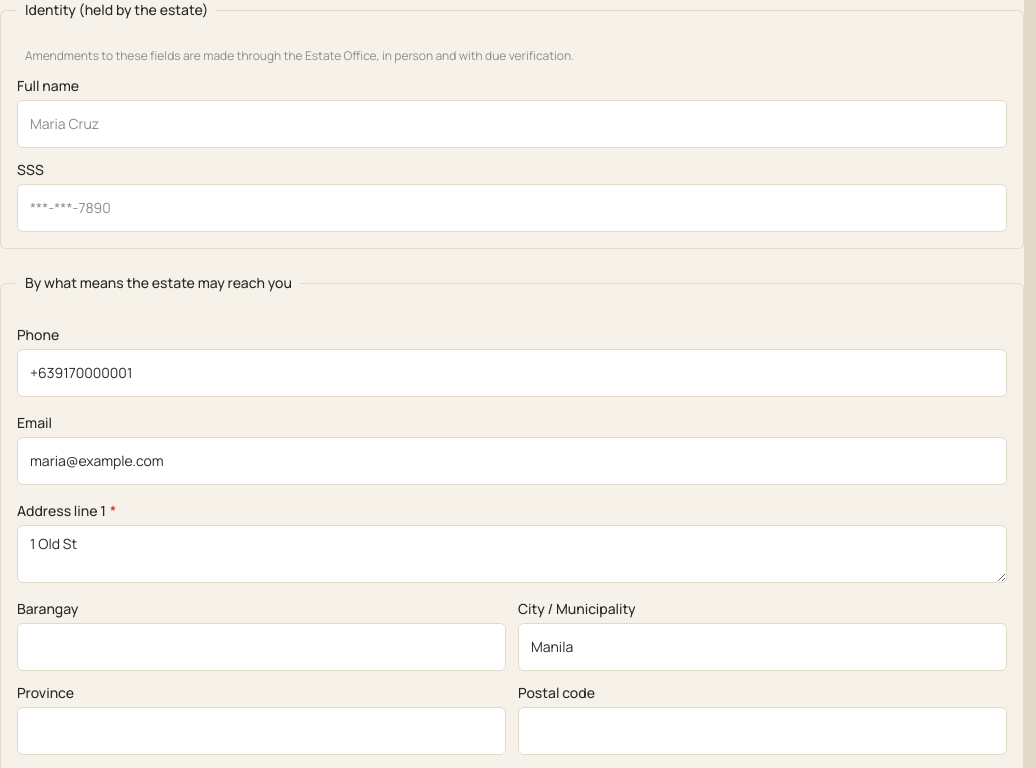
Test case: CustomerAccountForm — AC2 happy path › shows the success toast after a successful save
Replace the text in the field labelled "Phone" with "09177771234". click: point(512, 373)
box: [17, 349, 1007, 397]
(page scrolled)
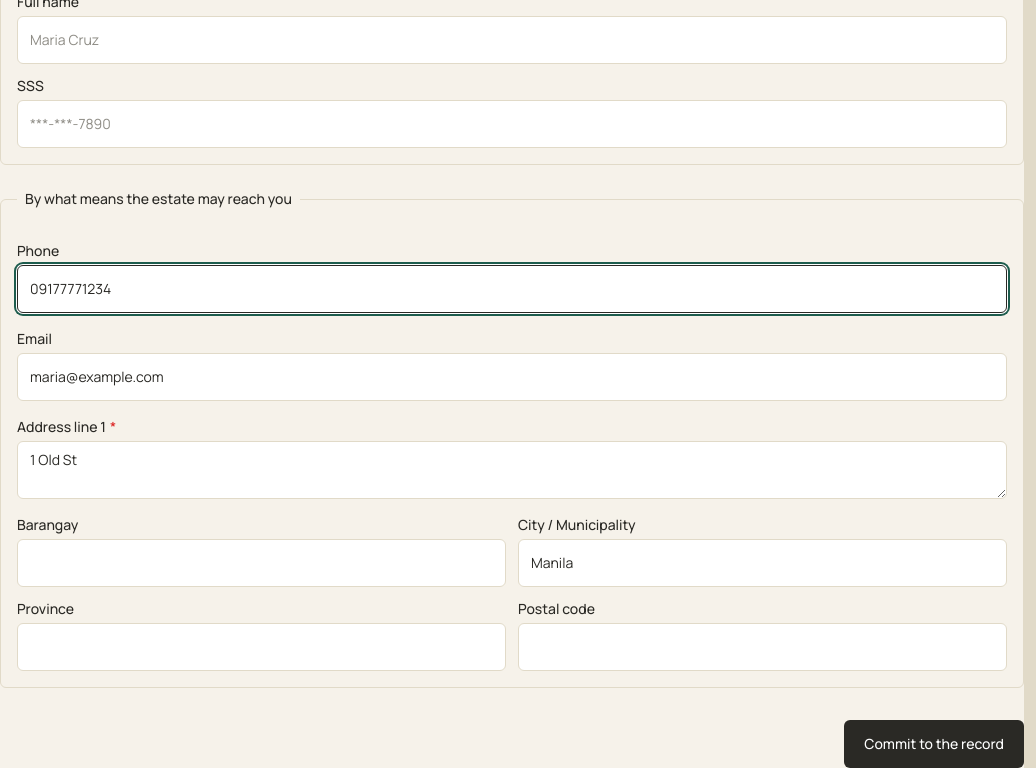
Click the button "Commit to the record". click: point(934, 744)
box: [844, 720, 1024, 767]
(page scrolled)
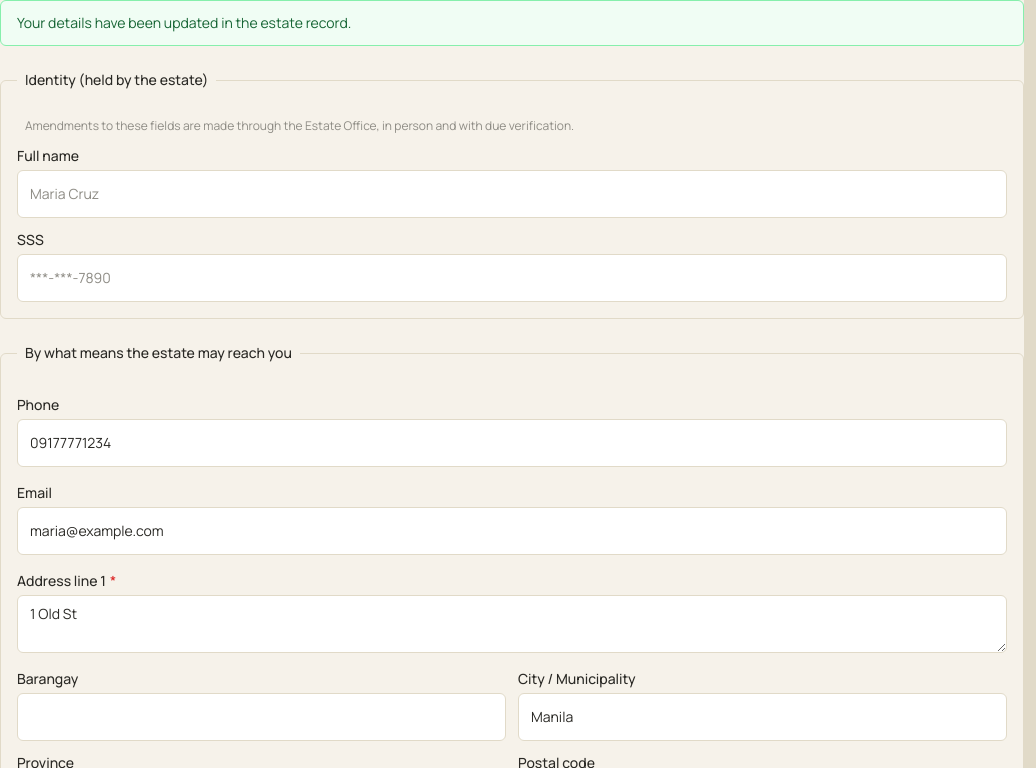
Now the message "Your details have been updated in the estate record." is shown, box [0, 0, 1024, 46]
Now the message with test id "customer-account-success" shows "updated", box [17, 13, 351, 32]
